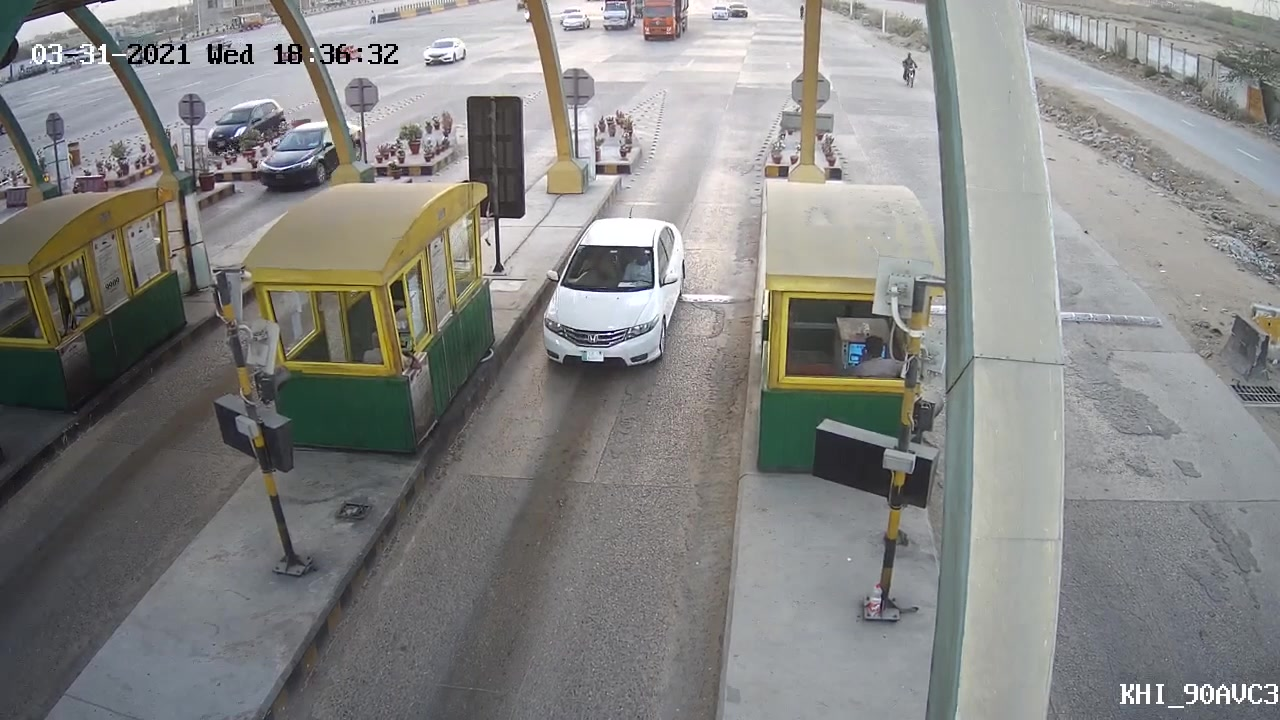F1: (527, 211, 699, 374)
